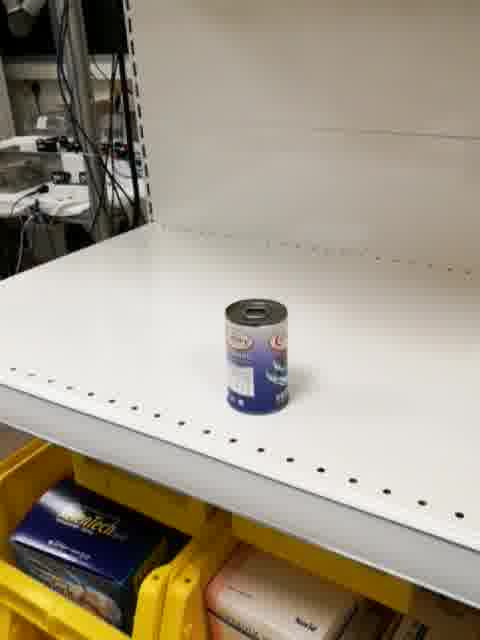sardine: (223, 297, 291, 417)
